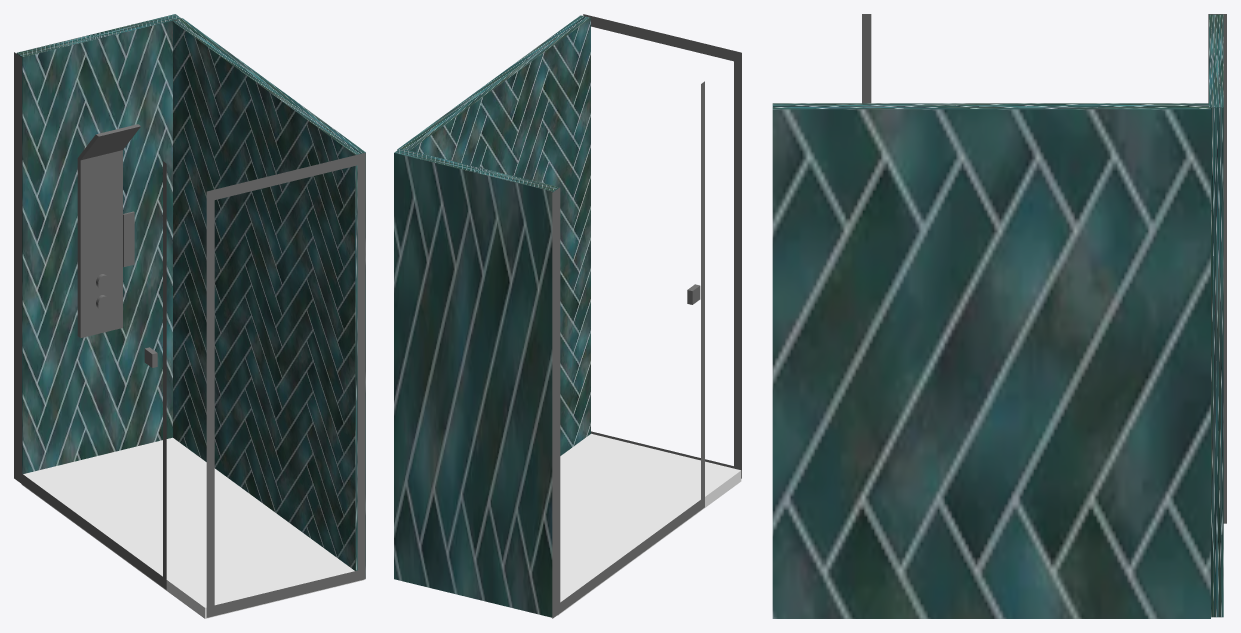
The model's file is kinewall-1-transformed.glb.
3 views of the same model, side by side, from view 1: azimuth 30°, elevation 25°; view 2: azimuth 150°, elevation 25°; view 3: azimuth 270°, elevation 25° (orthographic). The views are drawn at different scales.
Visible parts, largest first — view 1: kinewall-back, kinewall; view 2: kinewall-back, kinewall; view 3: kinewall-back, kinewall.
Part boxes in pixels (x1,y1,x2,y2): kinewall-back: [16, 14, 365, 578]; kinewall: [14, 52, 365, 618]; kinewall-back: [394, 15, 590, 617]; kinewall: [552, 14, 741, 618]; kinewall-back: [772, 14, 1223, 618]; kinewall: [862, 14, 1226, 523].
Bounding box in the file's own units: 3.15 × 7.73 × 6.26.
4 materials, 1 textured.
